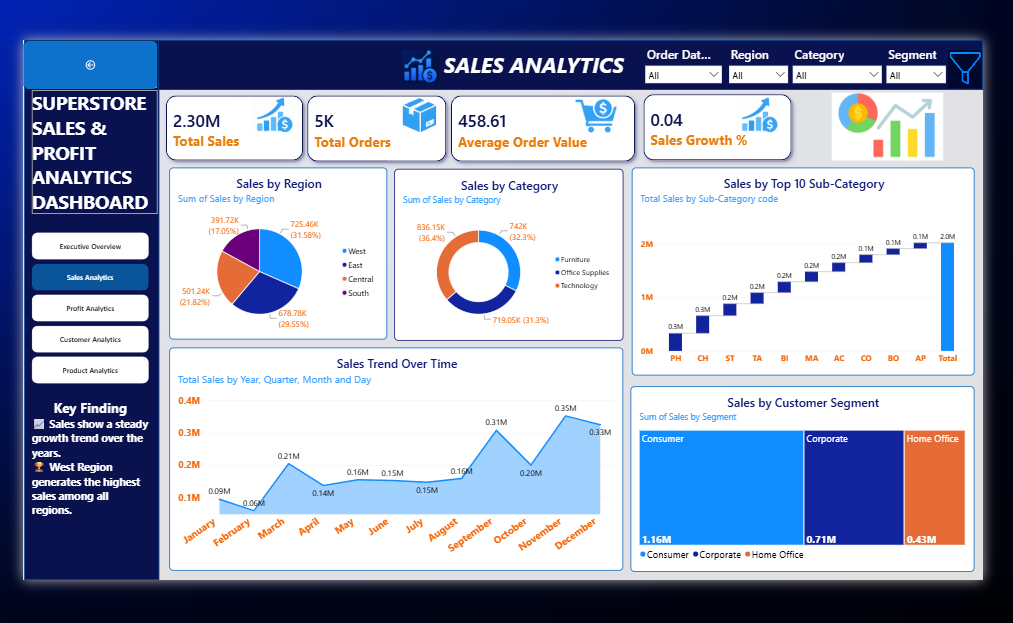

This screenshot's page, from the dashboard's own definition file:
{"tool":"powerbi","page":{"name":"Sales Analytics","canvas":[1920,1080],"ordinal":1},"visuals":[{"type":"shape","box":[2,0,270,1080],"z":0},{"type":"textbox","box":[18,100,252,248],"z":1000},{"type":"pageNavigator","box":[18,386,234,306],"z":2000},{"type":"shape","box":[270,0,1650,100],"z":3000},{"type":"textbox","box":[687.5,20,680,67.5],"z":4000},{"type":"pieChart","title":"Sales by Region","fields":{"Category":["Data.Region"],"Y":["Sum(Data.Sales)"]},"box":[292,256,436,344],"z":5000},{"type":"donutChart","title":"Sales by Category ","fields":{"Y":["Sum(Data.Sales)"],"Series":["Category Code Table.Category"]},"box":[742,258,458,344],"z":6000},{"type":"treemap","title":"Sales by Customer Segment ","fields":{"Group":["Data.Segment"],"Values":["Sum(Data.Sales)"]},"box":[1216.1,691.3,687.7,371],"z":7000},{"type":"waterfallChart","title":"Sales by Sub-Category ","fields":{"Category":["Abbreviations.Sub-Category code"],"Y":["Data.Total Sales"]},"box":[1217.9,255.2,685.9,416.2],"z":8000},{"type":"cardVisual","fields":{"Data":["Data.Total Sales"]},"box":[270,94,306,162],"z":9000},{"type":"cardVisual","fields":{"Data":["Data.Average Order Value"]},"box":[840,94,400,164],"z":10000},{"type":"cardVisual","fields":{"Data":["Data.Total Orders"]},"box":[552,94,310,164],"z":11000},{"type":"cardVisual","fields":{"Data":["Data.Sales Growth %"]},"box":[1224,92,328,164],"z":12000},{"type":"slicer","fields":{"Values":["Data.Order Date","Data.Order Date.Variation.Date Hierarchy.Year","Data.Order Date.Variation.Date Hierarchy.Quarter","Data.Order Date.Variation.Date Hierarchy.Month","Data.Order Date.Variation.Date Hierarchy.Day"]},"box":[1240,12.5,162.5,85],"z":13000},{"type":"slicer","fields":{"Values":["Data.Region"]},"box":[1407.5,12.5,127.5,87.5],"z":14000},{"type":"slicer","fields":{"Values":["Category Code Table.Category"]},"box":[1535,12.5,187.5,85],"z":15000},{"type":"slicer","fields":{"Values":["Data.Segment"]},"box":[1722,12,128,86],"z":16000},{"type":"areaChart","title":"Sales Trend Over Time","fields":{"Category":["Data.Order Date.Variation.Date Hierarchy.Year","Data.Order Date.Variation.Date Hierarchy.Quarter","Data.Order Date.Variation.Date Hierarchy.Month","Data.Order Date.Variation.Date Hierarchy.Day"],"Y":["Data.Total Sales"]},"box":[292,616,908,446],"z":17000},{"type":"actionButton","box":[0,0,270,100],"z":18000},{"type":"image","box":[454,116,90,70],"z":19000},{"type":"image","box":[728,116,126,72],"z":20000},{"type":"image","box":[1096,116,104,72],"z":21000},{"type":"image","box":[1426,116,90,70],"z":22000},{"type":"image","box":[746,20,100,66],"z":23000},{"type":"image","box":[1556,106,348,136],"z":24000},{"type":"image","box":[1850,0,68,116],"z":25000},{"type":"textbox","box":[17.5,717.5,235,362.5],"z":26000}]}

Visuals, with their boxes on the page's 1920x1080 design canvas (x1, y1, x2, y2). These are canvas units, not pixel positions in the 1013x623 screenshot, which may show the page scaled, cropped or inside an application window:
shape: <region>2, 0, 272, 1080</region>
textbox: <region>18, 100, 270, 348</region>
pageNavigator: <region>18, 386, 252, 692</region>
shape: <region>270, 0, 1920, 100</region>
textbox: <region>688, 20, 1368, 88</region>
"Sales by Region" pieChart: <region>292, 256, 728, 600</region>
"Sales by Category " donutChart: <region>742, 258, 1200, 602</region>
"Sales by Customer Segment " treemap: <region>1216, 691, 1904, 1062</region>
"Sales by Sub-Category " waterfallChart: <region>1218, 255, 1904, 671</region>
cardVisual - Data.Total Sales: <region>270, 94, 576, 256</region>
cardVisual - Data.Average Order Value: <region>840, 94, 1240, 258</region>
cardVisual - Data.Total Orders: <region>552, 94, 862, 258</region>
cardVisual - Data.Sales Growth %: <region>1224, 92, 1552, 256</region>
slicer - Data.Order Date x Data.Order Date.Variation.Date Hierarchy.Year: <region>1240, 12, 1402, 98</region>
slicer - Data.Region: <region>1408, 12, 1535, 100</region>
slicer - Category Code Table.Category: <region>1535, 12, 1722, 98</region>
slicer - Data.Segment: <region>1722, 12, 1850, 98</region>
"Sales Trend Over Time" areaChart: <region>292, 616, 1200, 1062</region>
actionButton: <region>0, 0, 270, 100</region>
image: <region>454, 116, 544, 186</region>
image: <region>728, 116, 854, 188</region>
image: <region>1096, 116, 1200, 188</region>
image: <region>1426, 116, 1516, 186</region>
image: <region>746, 20, 846, 86</region>
image: <region>1556, 106, 1904, 242</region>
image: <region>1850, 0, 1918, 116</region>
textbox: <region>18, 718, 252, 1080</region>
